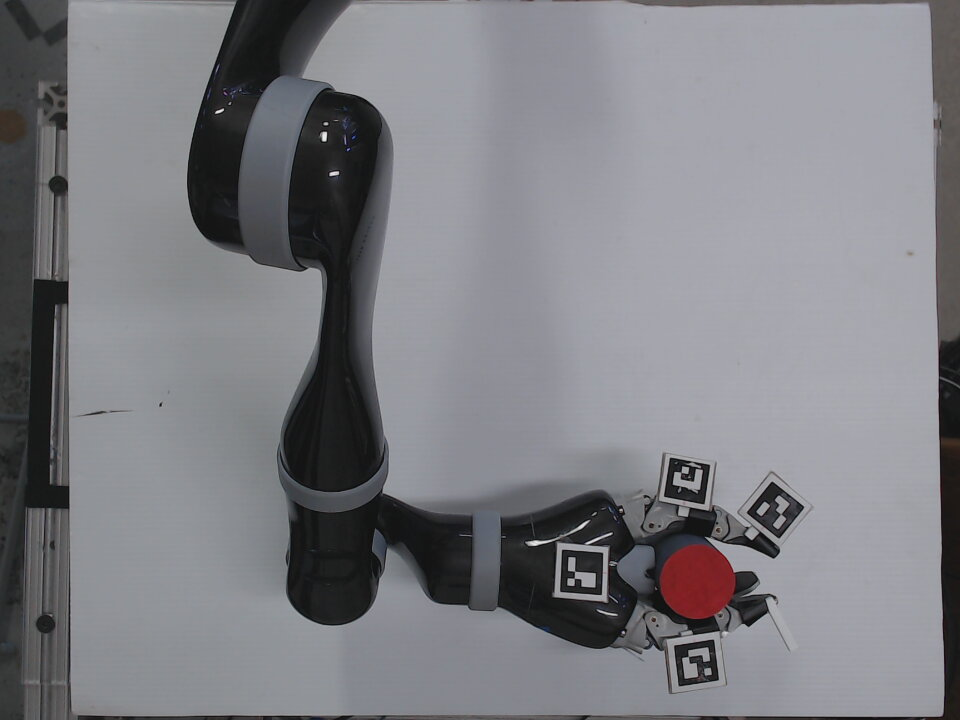cylinder: (651, 536, 740, 623)
